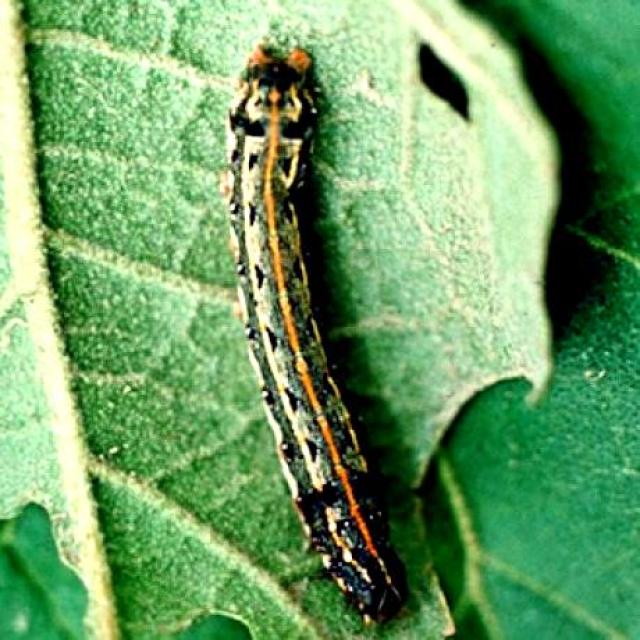Armyworm: (195, 1, 425, 638)
Armyworm_damage: (384, 20, 488, 142)
